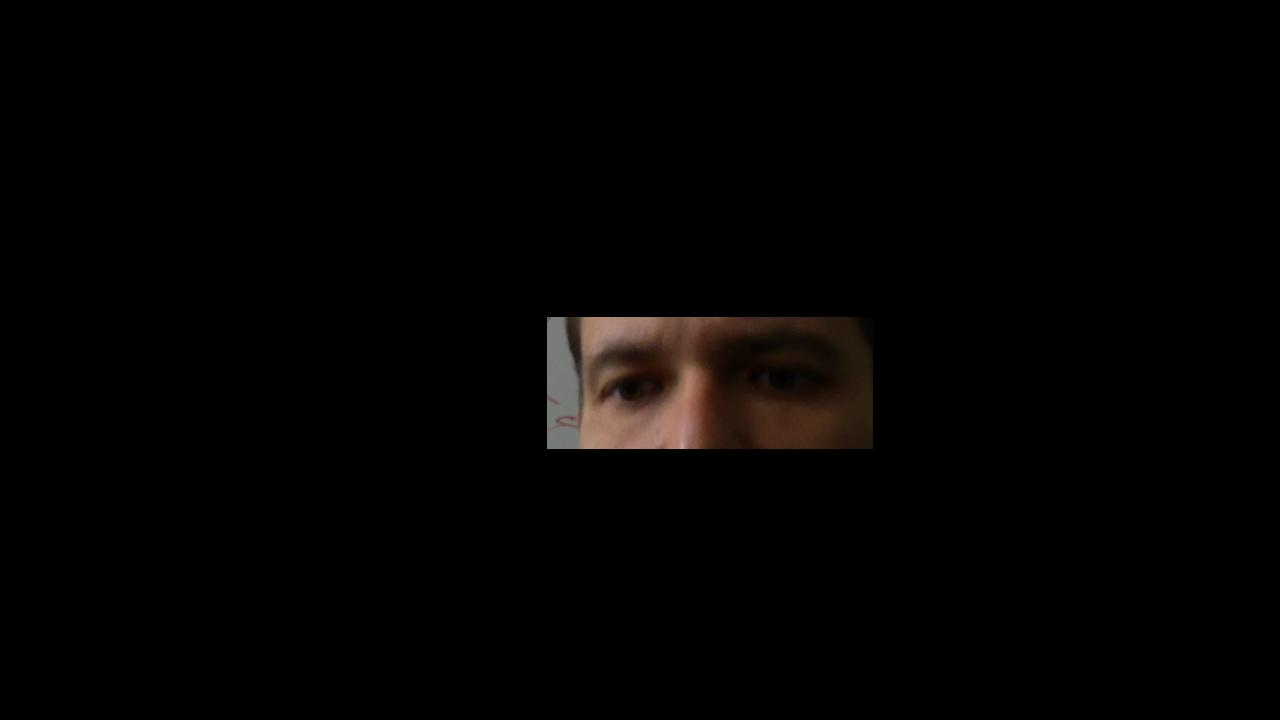eye: (615, 378, 644, 400), (770, 368, 798, 390)
